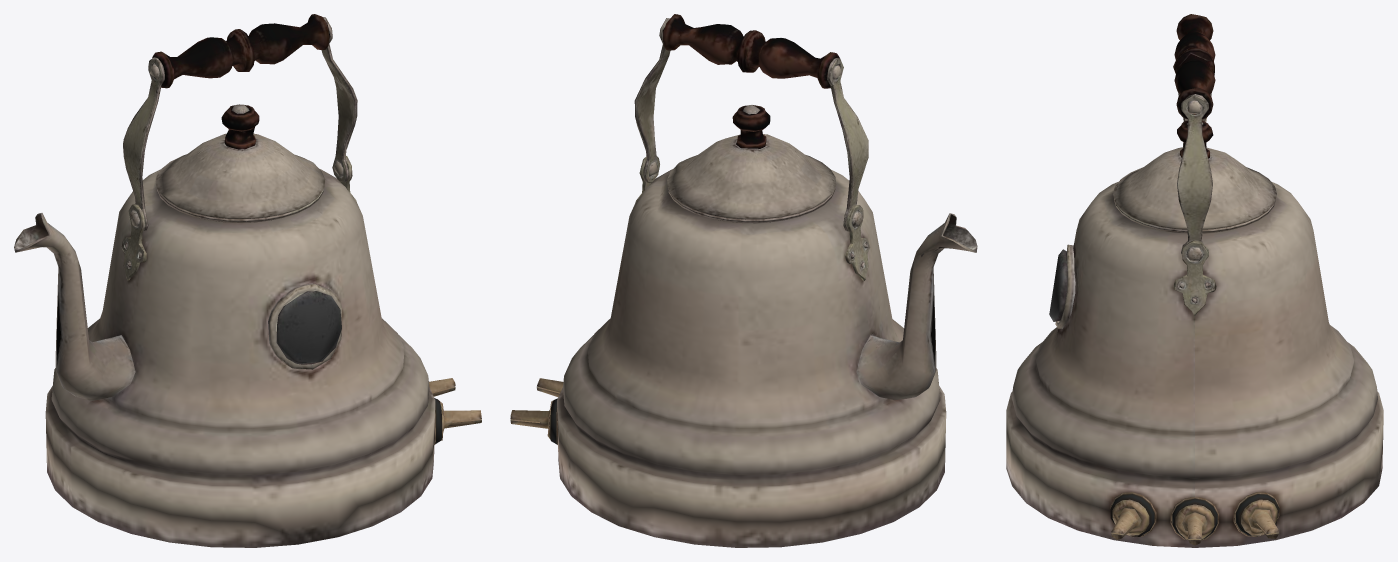
Rendered from vintage_electric_kettle.glb.
3 renders of one model, left to right at view 1: azimuth 30°, elevation 25°; view 2: azimuth 150°, elevation 25°; view 3: azimuth 270°, elevation 25°, orthographic. The views are drawn at different scales.
Visible parts, largest first — view 1: vintage_electric_kettle; view 2: vintage_electric_kettle; view 3: vintage_electric_kettle.
Part boxes in pixels (bbox=[...]): vintage_electric_kettle: bbox=[14, 14, 481, 547]; vintage_electric_kettle: bbox=[510, 14, 977, 547]; vintage_electric_kettle: bbox=[1006, 14, 1383, 547].
Size of the model in its own units: 0.3201 by 0.3044 by 0.2478.
Materials: 2 (2 with a texture image).
